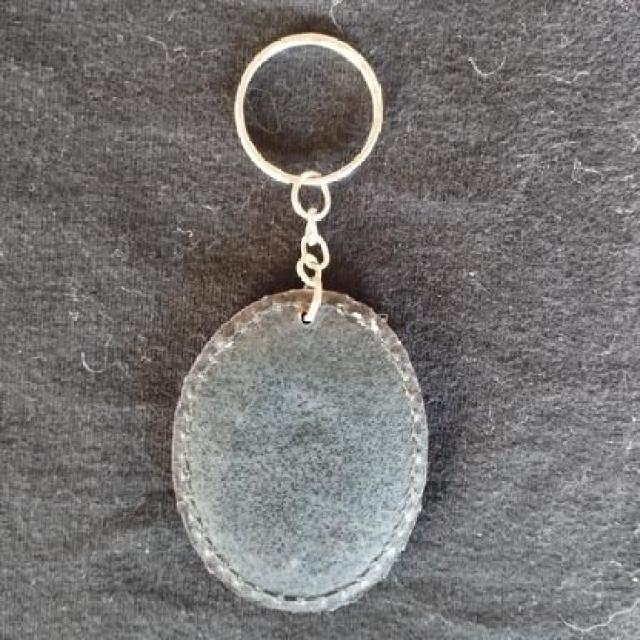Llavero: (170, 287, 430, 615)
